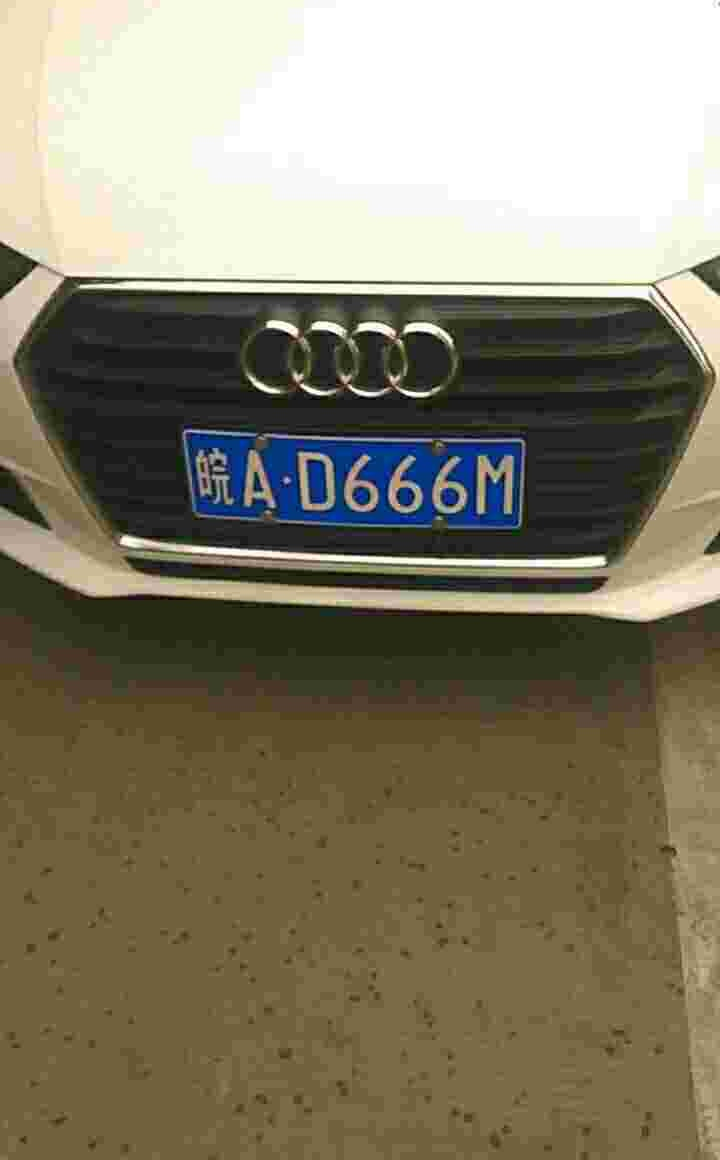license_plate: (183, 424, 534, 540)
